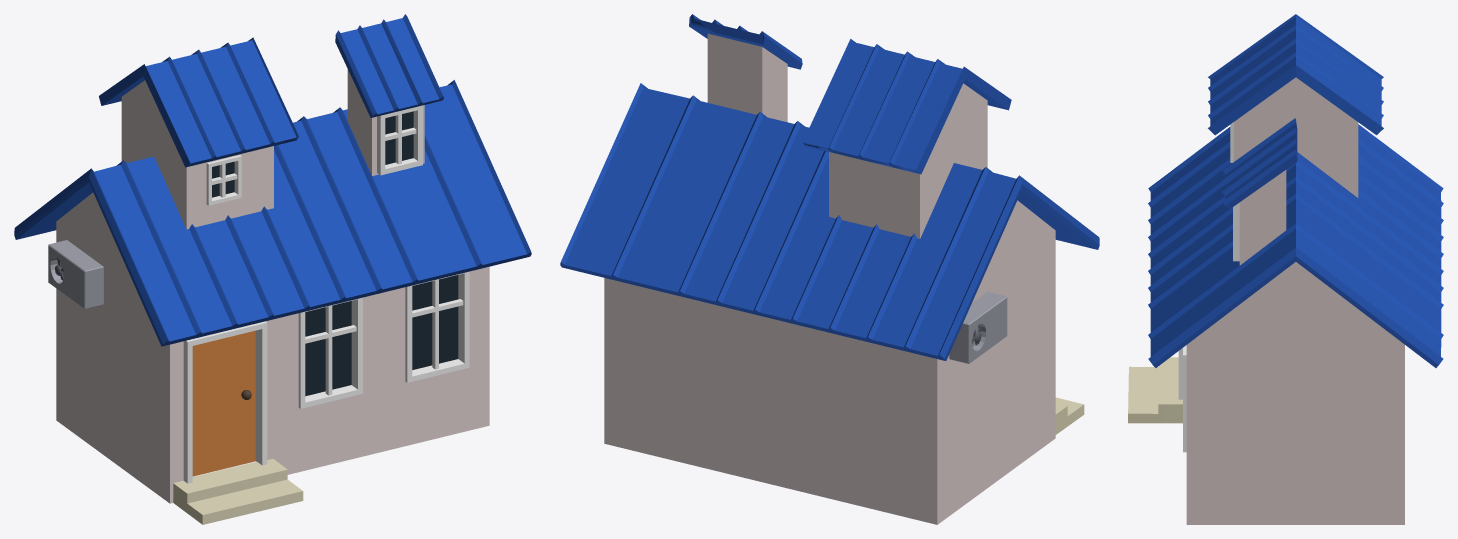
File: Semi_House02.fbx
The picture shows the model from 3 angles, left to right: view 1: azimuth 30°, elevation 25°; view 2: azimuth 150°, elevation 25°; view 3: azimuth 270°, elevation 25°; orthographic projection. The views are drawn at different scales.
Visible parts, largest first — view 1: Semi_House02; view 2: Semi_House02; view 3: Semi_House02.
Part boxes in pixels (bbox=[...]): Semi_House02: bbox=[14, 14, 531, 524]; Semi_House02: bbox=[560, 14, 1099, 524]; Semi_House02: bbox=[1128, 14, 1443, 524].
Bounding box in the file's own units: 150 × 116 × 152.
